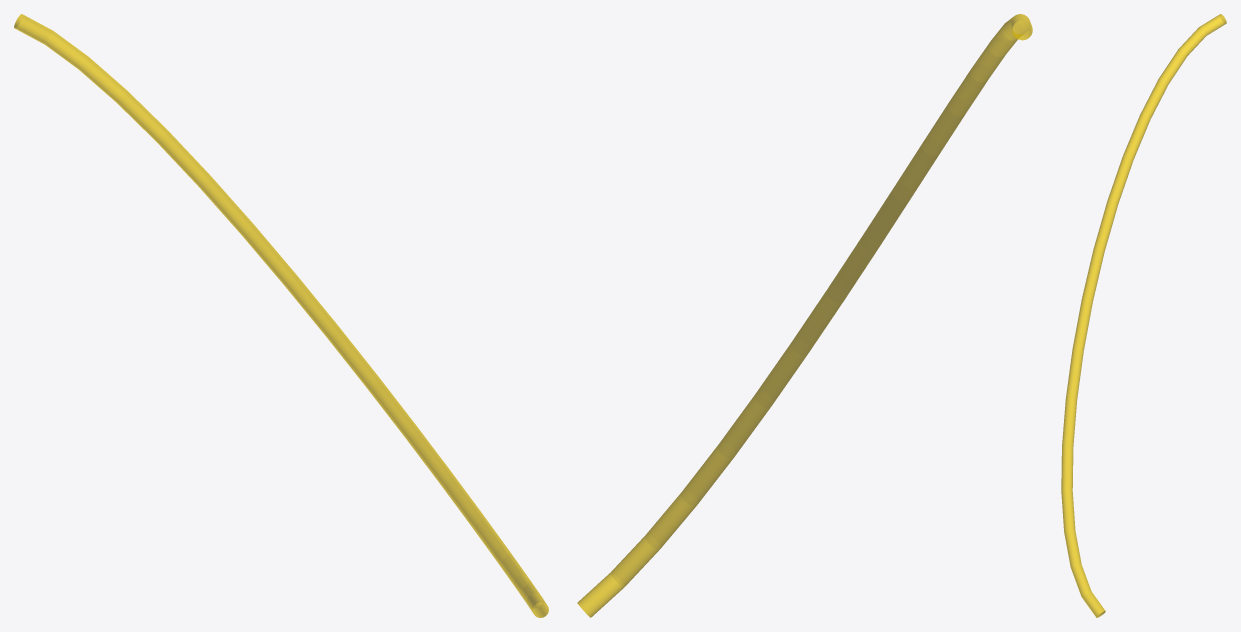
Rendered from Event_31209032_track_12.fbx.
3 views of the same model, side by side, from view 1: azimuth 30°, elevation 25°; view 2: azimuth 150°, elevation 25°; view 3: azimuth 270°, elevation 25° (orthographic). The views are drawn at different scales.
Visible parts, largest first — view 1: Model; view 2: Model; view 3: Model.
Part boxes in pixels (x1,y1,x2,y2): Model: (14,14,548,617); Model: (577,14,1032,617); Model: (1061,14,1226,617).
Bounding box in the file's own units: 1.27 × 1.75 × 0.5755.
